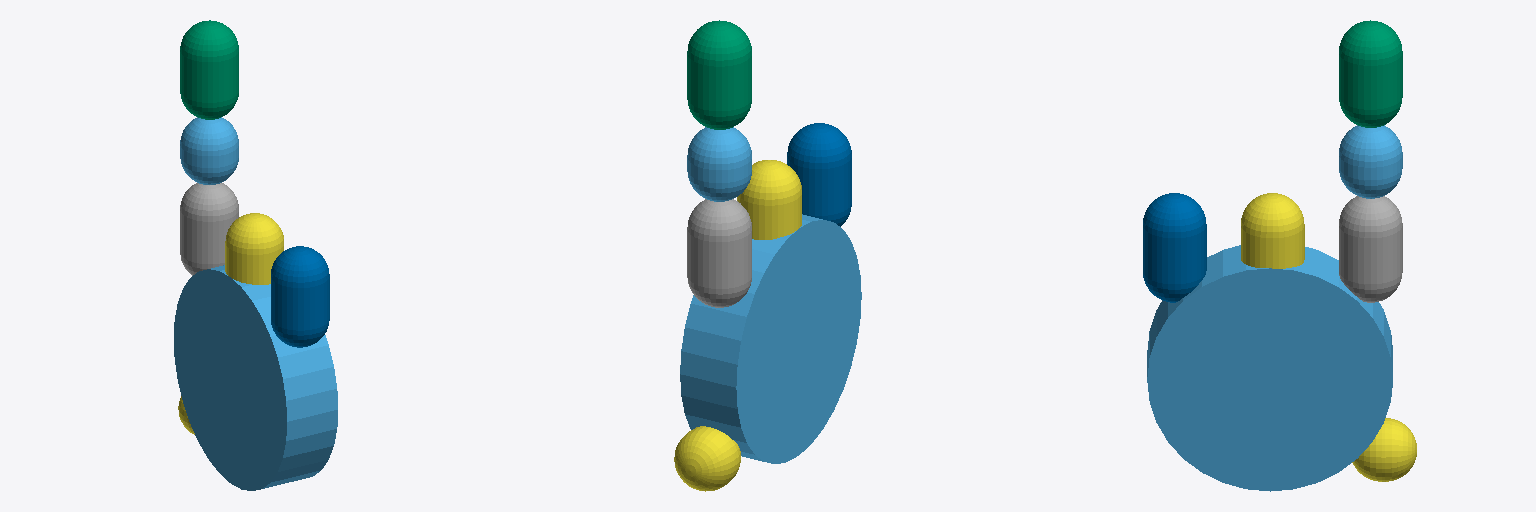
robot.urdf — DexterousHand:
<?xml version="1.0"?>
<robot name="DexterousHand">


    <link name="world"/>
    <joint name="world_to_palm" type="fixed">
        <parent link="world"/>
        <child link="palm"/>
        <origin xyz="0 0 0" rpy="0 0 0"/>
    </joint>
    <link name="palm">
        <inertial>
            <origin xyz="0 0 0.057" rpy="0 0 0"/>
            <mass value="0.30212892864"/>
            <inertia ixx="0.00049080844457568" ixy="0.0" ixz="0.0" iyy="0.00026746366246427523" iyz="0.0" izz="0.00026746366246427523"/>
        </inertial>
        <visual>
            <origin xyz="0 0 0.057" rpy="1.5708 0 1.5708"/>
            <geometry>
                <cylinder radius="0.057" length="0.0296"/>
            </geometry>
            <material name="default"/>
        </visual>
        <collision>
            <origin xyz="0 0 0.057" rpy="1.5708 0 1.5708"/>
            <geometry>
                <cylinder radius="0.057" length="0.0296"/>
            </geometry>
        </collision>
    </link>

    
    <joint name="thumb_joint1" type="revolute">
        <parent link="palm"/>
        <child link="thumb_base"/>
        <origin xyz="0.0029 0.0368 0.0157" rpy="-1.5708 -1.5708 0.0"/>
        <axis xyz="-1 0 0"/>
        <limit lower="-0.349" upper="2.094" effort="1.0" velocity="1.0"/>
    </joint>

    <link name="thumb_base"></link>

    <joint name="thumb_joint2" type="revolute">
        <parent link="thumb_base"/>
        <child link="thumb_proximal"/>
        <origin xyz="0.0 0.0 0.0" rpy="0.0 0.0 0.0"/>
        <axis xyz="0 0 1"/>
        <limit lower="-0.47" upper="2.443" effort="1.0" velocity="1.0"/>
    </joint>

    <link name="thumb_proximal">
        <inertial>
            <origin xyz="0 0 0.01565" rpy="0 0 0"/>
            <mass value="0.021538658803200002"/>
            <inertia ixx="2.9378910096388167e-06" ixy="0.0" ixz="0.0" 
            iyy="2.9378910096388167e-06" iyz="0.0" izz="2.358913912126464e-06"/>
        </inertial>
        <visual>
            <origin xyz="0 0 0.01565" rpy="0 0 0"/>
            <geometry>
                <cylinder radius="0.0148" length="0.0017000000000000001"/>
            </geometry>
            <material name="default"/>
        </visual>
        <visual>
            <origin xyz="0 0 0.0148" rpy="0 0 0"/>
            <geometry>
                <sphere radius="0.0148"/>
            </geometry>
            <material name="default"/>
        </visual>
        <visual>
            <origin xyz="0 0 0.0165" rpy="0 0 0"/>
            <geometry>
                <sphere radius="0.0148"/>
            </geometry>
            <material name="default"/>
        </visual>
        <collision>
            <origin xyz="0 0 0.01565" rpy="0 0 0"/>
            <geometry>
                <cylinder radius="0.0148" length="0.0017000000000000001"/>
            </geometry>
        </collision>
        <collision>
            <origin xyz="0 0 0.0148" rpy="0 0 0"/>
            <geometry>
                <sphere radius="0.0148"/>
            </geometry>
        </collision>
        <collision>
            <origin xyz="0 0 0.0165" rpy="0 0 0"/>
            <geometry>
                <sphere radius="0.0148"/>
            </geometry>
        </collision>
    </link>

    <joint name="thumb_joint3" type="revolute">
        <parent link="thumb_proximal"/>
        <child link="thumb_knuckle"/>
        <origin xyz="0.0 0.0 0.0" rpy="0.0 0.0 0.0"/>
        <axis xyz="1 0 0"/>
        <limit lower="0.0" upper="0.0" effort="1.0" velocity="1.0"/>
    </joint>

    <link name="thumb_knuckle"></link>

    <joint name="thumb_joint4" type="revolute">
        <parent link="thumb_knuckle"/>
        <child link="thumb_middle"/>
        <origin xyz="0 0 0" rpy="0 0 0"/> 
        <axis xyz="0 1 0"/>
        <limit lower="0.0" upper="0.0" effort="1.0" velocity="1.0"/>
    </joint>

    <link name="thumb_middle">
    </link>

    <joint name="thumb_joint5" type="revolute">
        <parent link="thumb_middle"/>
        <child link="thumb_distal"/>
        <origin xyz="0 0 0" rpy="0 0 0"/> 
        <axis xyz="0 1 0"/>
        <limit lower="0.0" upper="0.0" effort="1.0" velocity="1.0"/>
    </joint>

    <link name="thumb_distal">
    </link>

    
    <joint name="index_joint1" type="revolute">
        <parent link="palm"/>
        <child link="index_proximal"/>
        <origin xyz="0.0 0.0465 0.091" rpy="0.0 0.0 0.0"/>
        <axis xyz="0 1 0"/>
        <limit lower="-0.314" upper="2.23" effort="1.0" velocity="1.0"/>
    </joint>

    <link name="index_proximal">
        <inertial>
            <origin xyz="0 0 0.02655" rpy="0 0 0"/>
            <mass value="0.036540024998400006"/>
            <inertia ixx="1.058665009272394e-05" ixy="0.0" ixz="0.0" 
            iyy="1.058665009272394e-05" iyz="0.0" izz="4.001863537824769e-06"/>
        </inertial>
        <visual>
            <origin xyz="0 0 0.02655" rpy="0 0 0"/>
            <geometry>
                <cylinder radius="0.0148" length="0.0235"/>
            </geometry>
            <material name="default"/>
        </visual>
        <visual>
            <origin xyz="0 0 0.0148" rpy="0 0 0"/>
            <geometry>
                <sphere radius="0.0148"/>
            </geometry>
            <material name="default"/>
        </visual>
        <visual>
            <origin xyz="0 0 0.0383" rpy="0 0 0"/>
            <geometry>
                <sphere radius="0.0148"/>
            </geometry>
            <material name="default"/>
        </visual>
        <collision>
            <origin xyz="0 0 0.02655" rpy="0 0 0"/>
            <geometry>
                <cylinder radius="0.0148" length="0.0235"/>
            </geometry>
        </collision>
        <collision>
            <origin xyz="0 0 0.0148" rpy="0 0 0"/>
            <geometry>
                <sphere radius="0.0148"/>
            </geometry>
        </collision>
        <collision>
            <origin xyz="0 0 0.0383" rpy="0 0 0"/>
            <geometry>
                <sphere radius="0.0148"/>
            </geometry>
        </collision>
    </link>

    <joint name="index_joint2" type="revolute">
        <parent link="index_proximal"/>
        <child link="index_dummy"/>
        <origin xyz="0.0 0.0 0.038" rpy="0.0 0.0 0.0"/>
        <axis xyz="1 0 0"/>
        <limit lower="-1.047" upper="1.047" effort="1.0" velocity="1.0"/>
    </joint>

    <link name="index_dummy"></link>

    <joint name="index_joint3" type="revolute">
        <parent link="index_dummy"/>
        <child link="index_middle"/>
        <origin xyz="0 0 0.015100000000000002" rpy="0 0 0"/>
        <axis xyz="0 1 0"/>
        <limit lower="-0.506" upper="1.885" effort="1.0" velocity="1.0"/>
    </joint>

    <link name="index_middle">
        <inertial>
            <origin xyz="0 0 0.01805" rpy="0 0 0"/>
            <mass value="0.0248417119104"/>
            <inertia ixx="4.058162759109537e-06" ixy="0.0" ixz="0.0" 
            iyy="4.058162759109537e-06" iyz="0.0" izz="2.7206642884270085e-06"/>
        </inertial>
        <visual>
            <origin xyz="0 0 0.01805" rpy="0 0 0"/>
            <geometry>
                <cylinder radius="0.0148" length="0.006499999999999999"/>
            </geometry>
            <material name="default"/>
        </visual>
        <visual>
            <origin xyz="0 0 0.0148" rpy="0 0 0"/>
            <geometry>
                <sphere radius="0.0148"/>
            </geometry>
            <material name="default"/>
        </visual>
        <visual>
            <origin xyz="0 0 0.0213" rpy="0 0 0"/>
            <geometry>
                <sphere radius="0.0148"/>
            </geometry>
            <material name="default"/>
        </visual>
        <collision>
            <origin xyz="0 0 0.01805" rpy="0 0 0"/>
            <geometry>
                <cylinder radius="0.0148" length="0.006499999999999999"/>
            </geometry>
        </collision>
        <collision>
            <origin xyz="0 0 0.0148" rpy="0 0 0"/>
            <geometry>
                <sphere radius="0.0148"/>
            </geometry>
        </collision>
        <collision>
            <origin xyz="0 0 0.0213" rpy="0 0 0"/>
            <geometry>
                <sphere radius="0.0148"/>
            </geometry>
        </collision>
    </link>

    <joint name="index_joint4" type="revolute">
        <parent link="index_middle"/>
        <child link="index_distal"/>
        <origin xyz="0 0 0.0361" rpy="0 0 0"/> 
        <axis xyz="0 1 0"/>
        <limit lower="-0.366" upper="2.042" effort="1.0" velocity="1.0"/>
    </joint>

    <link name="index_distal">
        <inertial>
            <origin xyz="0 0 0.026" rpy="0 0 0"/>
            <mass value="0.035783075328"/>
            <inertia ixx="1.002260084553728e-05" ixy="0.0" ixz="0.0" 
            iyy="1.002260084553728e-05" iyz="0.0" izz="3.91896240992256e-06"/>
        </inertial>
        <visual>
            <origin xyz="0 0 0.026" rpy="0 0 0"/>
            <geometry>
                <cylinder radius="0.0148" length="0.022399999999999996"/>
            </geometry>
            <material name="default"/>
        </visual>
        <visual>
            <origin xyz="0 0 0.0148" rpy="0 0 0"/>
            <geometry>
                <sphere radius="0.0148"/>
            </geometry>
            <material name="default"/>
        </visual>
        <visual>
            <origin xyz="0 0 0.0372" rpy="0 0 0"/>
            <geometry>
                <sphere radius="0.0148"/>
            </geometry>
            <material name="default"/>
        </visual>
        <collision>
            <origin xyz="0 0 0.026" rpy="0 0 0"/>
            <geometry>
                <cylinder radius="0.0148" length="0.022399999999999996"/>
            </geometry>
        </collision>
        <collision>
            <origin xyz="0 0 0.0148" rpy="0 0 0"/>
            <geometry>
                <sphere radius="0.0148"/>
            </geometry>
        </collision>
        <collision>
            <origin xyz="0 0 0.0372" rpy="0 0 0"/>
            <geometry>
                <sphere radius="0.0148"/>
            </geometry>
        </collision>
    </link>

    
    <joint name="middle_joint1" type="revolute">
        <parent link="palm"/>
        <child link="middle_proximal"/>
        <origin xyz="0.0 0.0011 0.091" rpy="0.0 0.0 0.0"/>
        <axis xyz="0 1 0"/>
        <limit lower="-0.314" upper="2.23" effort="1.0" velocity="1.0"/>
    </joint>

    <link name="middle_proximal">
        <inertial>
            <origin xyz="0 0 0.02655" rpy="0 0 0"/>
            <mass value="0.036540024998400006"/>
            <inertia ixx="1.058665009272394e-05" ixy="0.0" ixz="0.0" 
            iyy="1.058665009272394e-05" iyz="0.0" izz="4.001863537824769e-06"/>
        </inertial>
        <visual>
            <origin xyz="0 0 0.02655" rpy="0 0 0"/>
            <geometry>
                <cylinder radius="0.0148" length="0.0235"/>
            </geometry>
            <material name="default"/>
        </visual>
        <visual>
            <origin xyz="0 0 0.0148" rpy="0 0 0"/>
            <geometry>
                <sphere radius="0.0148"/>
            </geometry>
            <material name="default"/>
        </visual>
        <visual>
            <origin xyz="0 0 0.0383" rpy="0 0 0"/>
            <geometry>
                <sphere radius="0.0148"/>
            </geometry>
            <material name="default"/>
        </visual>
        <collision>
            <origin xyz="0 0 0.02655" rpy="0 0 0"/>
            <geometry>
                <cylinder radius="0.0148" length="0.0235"/>
            </geometry>
        </collision>
        <collision>
            <origin xyz="0 0 0.0148" rpy="0 0 0"/>
            <geometry>
                <sphere radius="0.0148"/>
            </geometry>
        </collision>
        <collision>
            <origin xyz="0 0 0.0383" rpy="0 0 0"/>
            <geometry>
                <sphere radius="0.0148"/>
            </geometry>
        </collision>
    </link>

    <joint name="middle_joint2" type="revolute">
        <parent link="middle_proximal"/>
        <child link="middle_dummy"/>
        <origin xyz="0.0 0.0 0.038" rpy="0.0 0.0 0.0"/>
        <axis xyz="0 1 0"/>
        <limit lower="0.0" upper="0.0" effort="1.0" velocity="1.0"/>
    </joint>

    <link name="middle_dummy"></link>

    <joint name="middle_joint3" type="revolute">
        <parent link="middle_dummy"/>
        <child link="middle_middle"/>
        <origin xyz="0 0 0.015100000000000002" rpy="0 0 0"/>
        <axis xyz="0 1 0"/>
        <limit lower="0.0" upper="0.0" effort="1.0" velocity="1.0"/>
    </joint>

    <link name="middle_middle">
    </link>

    <joint name="middle_joint4" type="revolute">
        <parent link="middle_middle"/>
        <child link="middle_distal"/>
        <origin xyz="0 0 0" rpy="0 0 0"/> 
        <axis xyz="0 1 0"/>
        <limit lower="0.0" upper="0.0" effort="1.0" velocity="1.0"/>
    </joint>

    <link name="middle_distal">
    </link>

    
    <joint name="ring_joint1" type="revolute">
        <parent link="palm"/>
        <child link="ring_proximal"/>
        <origin xyz="0.0 0.0 0.0" rpy="0.0 0.0 0.0"/>
        <axis xyz="1 0 0"/>
        <limit lower="0.0" upper="0.0" effort="1.0" velocity="1.0"/>
    </joint>

    <link name="ring_proximal">
    </link>

    <joint name="ring_joint2" type="revolute">
        <parent link="ring_proximal"/>
        <child link="ring_dummy"/>
        <origin xyz="0.0 0.0 0.0" rpy="0.0 0.0 0.0"/>
        <axis xyz="0 1 0"/>
        <limit lower="0.0" upper="0.0" effort="1.0" velocity="1.0"/>
    </joint>

    <link name="ring_dummy"></link>

    <joint name="ring_joint3" type="revolute">
        <parent link="ring_dummy"/>
        <child link="ring_middle"/>
        <origin xyz="0 0 0" rpy="0 0 0"/>
        <axis xyz="0 1 0"/>
        <limit lower="0.0" upper="0.0" effort="1.0" velocity="1.0"/>
    </joint>

    <link name="ring_middle">
    </link>

    <joint name="ring_joint4" type="revolute">
        <parent link="ring_middle"/>
        <child link="ring_distal"/>
        <origin xyz="0 0 0" rpy="0 0 0"/> 
        <axis xyz="0 1 0"/>
        <limit lower="0.0" upper="0.0" effort="1.0" velocity="1.0"/>
    </joint>

    <link name="ring_distal">
    </link>

    
    <joint name="little_joint0" type="revolute">
        <parent link="palm"/>
        <child link="little_base"/>
        <origin xyz="0.0 0.0 0.0" rpy="0.0 0.0 0.0"/>
        <axis xyz="0 1 0"/>
        <limit lower="0.0" upper="0.0" effort="1.0" velocity="1.0"/>
    </joint>

    <link name="little_base"></link>

    <joint name="little_joint1" type="revolute">
        <parent link="little_base"/>
        <child link="little_proximal"/>
        <origin xyz="0.0 -0.0443 0.091" rpy="-0.0 -0.0 -0.0"/>
        <axis xyz="0 1 0"/>
        <limit lower="-0.314" upper="2.23" effort="1.0" velocity="1.0"/>
    </joint>

    <link name="little_proximal">
        <inertial>
            <origin xyz="0 0 0.02655" rpy="0 0 0"/>
            <mass value="0.036540024998400006"/>
            <inertia ixx="1.058665009272394e-05" ixy="0.0" ixz="0.0" 
            iyy="1.058665009272394e-05" iyz="0.0" izz="4.001863537824769e-06"/>
        </inertial>
        <visual>
            <origin xyz="0 0 0.02655" rpy="0 0 0"/>
            <geometry>
                <cylinder radius="0.0148" length="0.0235"/>
            </geometry>
            <material name="default"/>
        </visual>
        <visual>
            <origin xyz="0 0 0.0148" rpy="0 0 0"/>
            <geometry>
                <sphere radius="0.0148"/>
            </geometry>
            <material name="default"/>
        </visual>
        <visual>
            <origin xyz="0 0 0.0383" rpy="0 0 0"/>
            <geometry>
                <sphere radius="0.0148"/>
            </geometry>
            <material name="default"/>
        </visual>
        <collision>
            <origin xyz="0 0 0.02655" rpy="0 0 0"/>
            <geometry>
                <cylinder radius="0.0148" length="0.0235"/>
            </geometry>
        </collision>
        <collision>
            <origin xyz="0 0 0.0148" rpy="0 0 0"/>
            <geometry>
                <sphere radius="0.0148"/>
            </geometry>
        </collision>
        <collision>
            <origin xyz="0 0 0.0383" rpy="0 0 0"/>
            <geometry>
                <sphere radius="0.0148"/>
            </geometry>
        </collision>
    </link>

    <joint name="little_joint2" type="revolute">
        <parent link="little_proximal"/>
        <child link="little_dummy"/>
        <origin xyz="0.0 0.0 0.038" rpy="0.0 0.0 0.0"/>
        <axis xyz="0 1 0"/>
        <limit lower="0.0" upper="0.0" effort="1.0" velocity="1.0"/>
    </joint>

    <link name="little_dummy"></link>

    <joint name="little_joint3" type="revolute">
        <parent link="little_dummy"/>
        <child link="little_middle"/>
        <origin xyz="0 0 0.015100000000000002" rpy="0 0 0"/>
        <axis xyz="0 1 0"/>
        <limit lower="0.0" upper="0.0" effort="1.0" velocity="1.0"/>
    </joint>

    <link name="little_middle">
    </link>

    <joint name="little_joint4" type="revolute">
        <parent link="little_middle"/>
        <child link="little_distal"/>
        <origin xyz="0 0 0" rpy="0 0 0"/>
        <axis xyz="0 1 0"/>
        <limit lower="0.0" upper="0.0" effort="1.0" velocity="1.0"/>
    </joint>

    <link name="little_distal">
    </link>

</robot>

--- Render facts (derived) ---
3 views of the same robot in one strip: view 1: azimuth 30°, elevation 25°; view 2: azimuth 150°, elevation 25°; view 3: azimuth 270°, elevation 25° (orthographic).
Robot: DexterousHand — 24 links, 23 joints (22 revolute, 1 fixed); root link world; default pose: every joint at zero.
Visible links, largest first — view 1: palm, little_proximal, index_distal, index_proximal, middle_proximal, index_middle; view 2: palm, index_proximal, index_distal, little_proximal, index_middle, middle_proximal, thumb_proximal; view 3: palm, index_distal, little_proximal, index_proximal, middle_proximal, index_middle, thumb_proximal.
Boxes of the visible links, box(x1,y1,x2,y2) form: palm: box(174, 265, 337, 490); little_proximal: box(271, 246, 329, 347); index_distal: box(180, 20, 238, 119); index_proximal: box(180, 183, 238, 275); middle_proximal: box(225, 213, 283, 284); index_middle: box(180, 117, 238, 184); palm: box(680, 214, 861, 463); index_proximal: box(687, 199, 751, 307); index_distal: box(687, 20, 751, 129); little_proximal: box(787, 123, 851, 226); index_middle: box(687, 127, 751, 201); middle_proximal: box(737, 160, 801, 239); thumb_proximal: box(674, 426, 740, 491); palm: box(1147, 245, 1392, 491); index_distal: box(1339, 20, 1402, 127); little_proximal: box(1143, 193, 1206, 302); index_proximal: box(1339, 196, 1402, 302); middle_proximal: box(1241, 193, 1304, 268); index_middle: box(1339, 125, 1402, 198); thumb_proximal: box(1352, 418, 1416, 481).
Size in the robot's own frame: 0.0325 by 0.1272 by 0.2322 metres.
Geometry: primitives only (box / cylinder / sphere), no mesh files.
